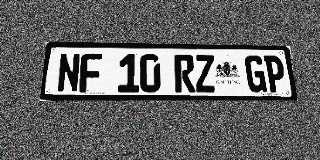0: (140, 54, 160, 92)
1: (118, 54, 139, 92)
F: (79, 53, 102, 92)
G: (244, 55, 267, 92)
N: (56, 53, 81, 92)
P: (264, 55, 286, 92)
R: (174, 54, 195, 92)
Z: (194, 55, 216, 92)
